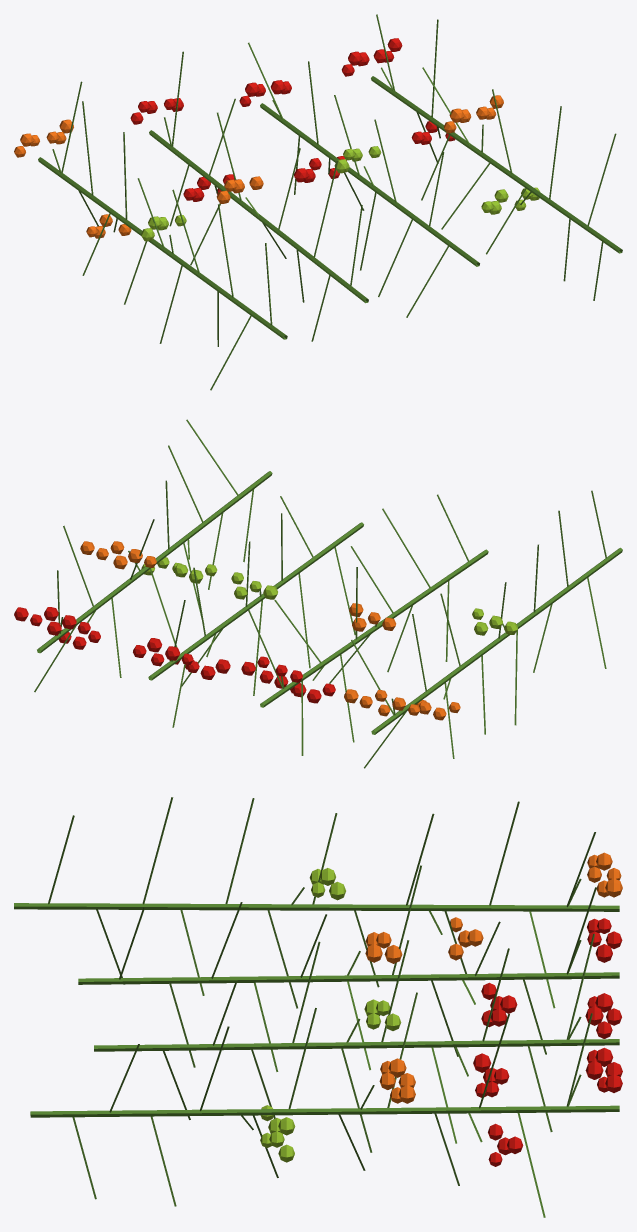
File: r19c2_stems.obj
3 renders of one model, top to bottom at view 1: azimuth 30°, elevation 25°; view 2: azimuth 150°, elevation 25°; view 3: azimuth 270°, elevation 25°, orthographic. The views are drawn at different scales.
Parts seen in each view (by area): view 1: r19c2_stems; view 2: r19c2_stems; view 3: r19c2_stems.
Boxes of the visible parts, left/top/right/bottom form: r19c2_stems: left=14, top=14, right=622, bottom=390; r19c2_stems: left=14, top=419, right=622, bottom=768; r19c2_stems: left=14, top=797, right=622, bottom=1217.
Size of the model in its own units: 2.14 by 0.8796 by 2.19.
